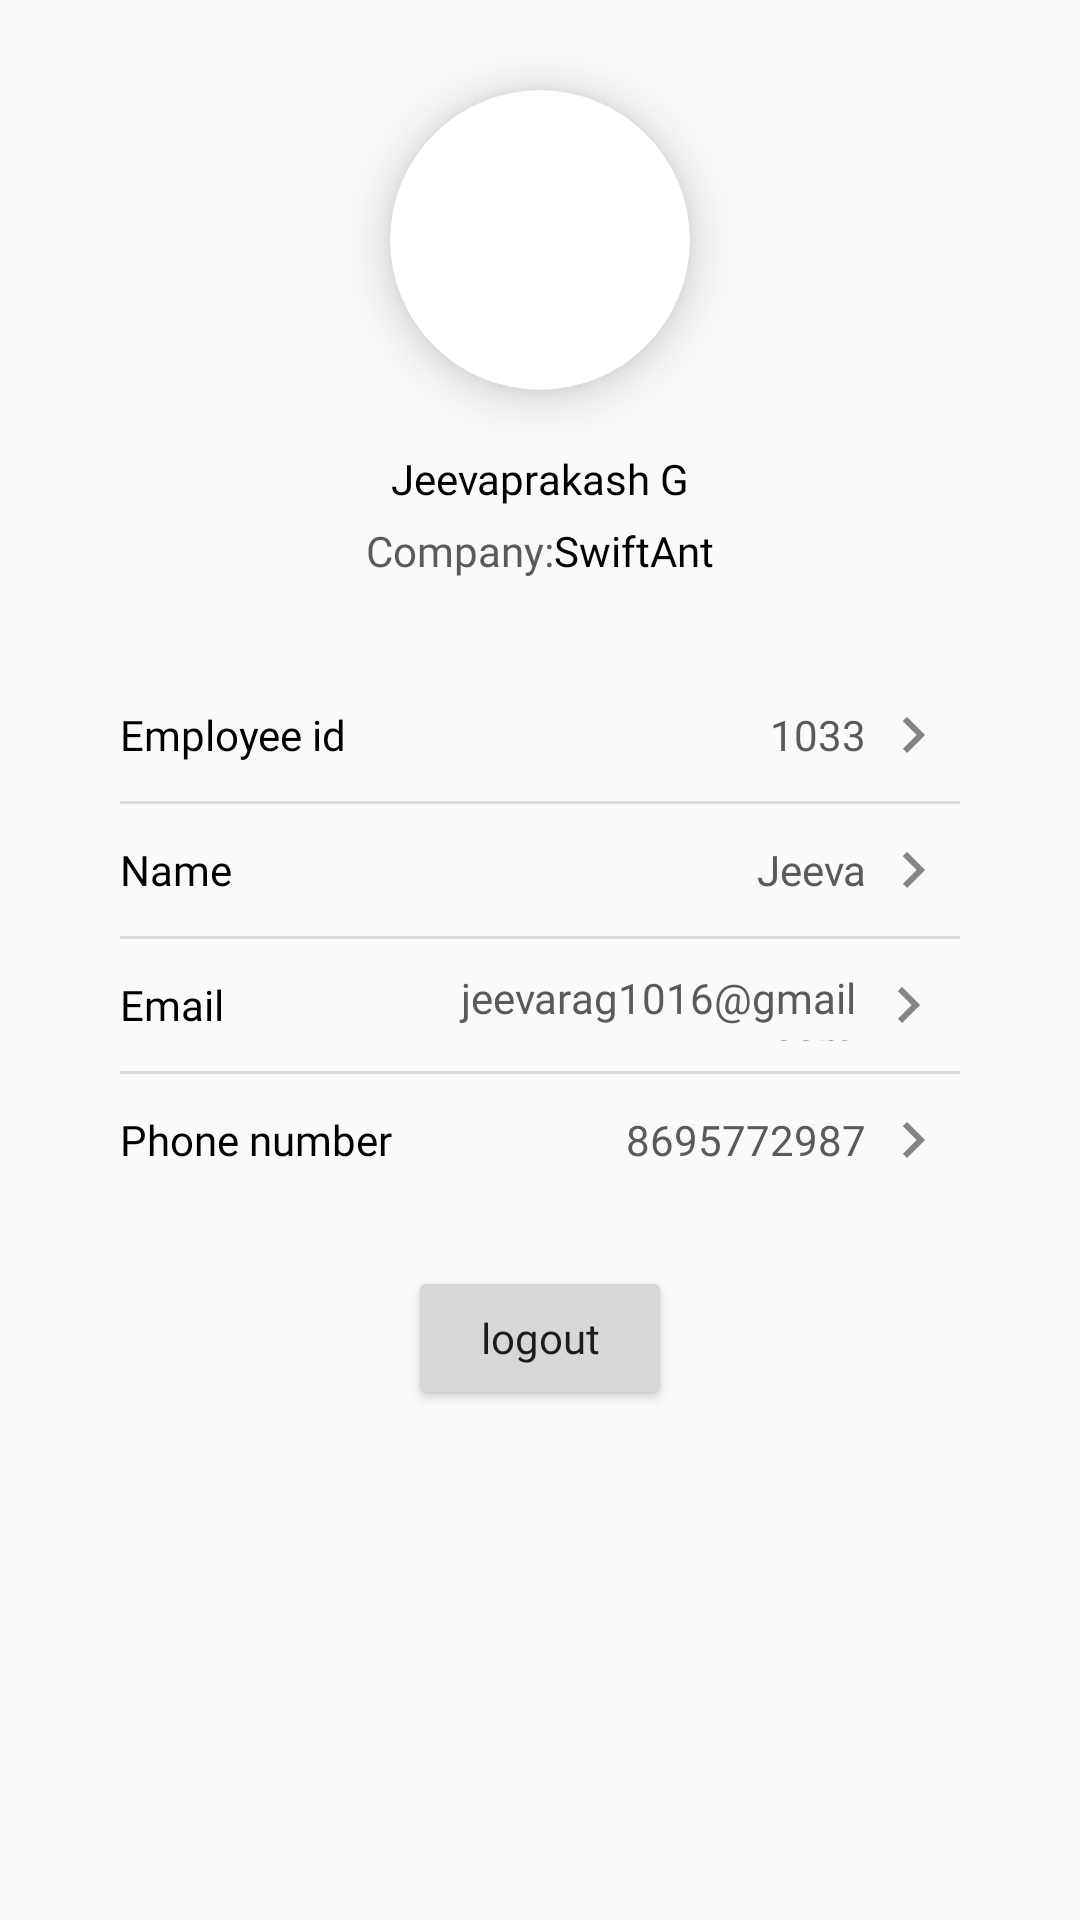

Point at icon controls on the screen. Image size 1080 x 1920, points as (x,y).
right: (914,735), (914,870), (909,1005), (914,1140)
